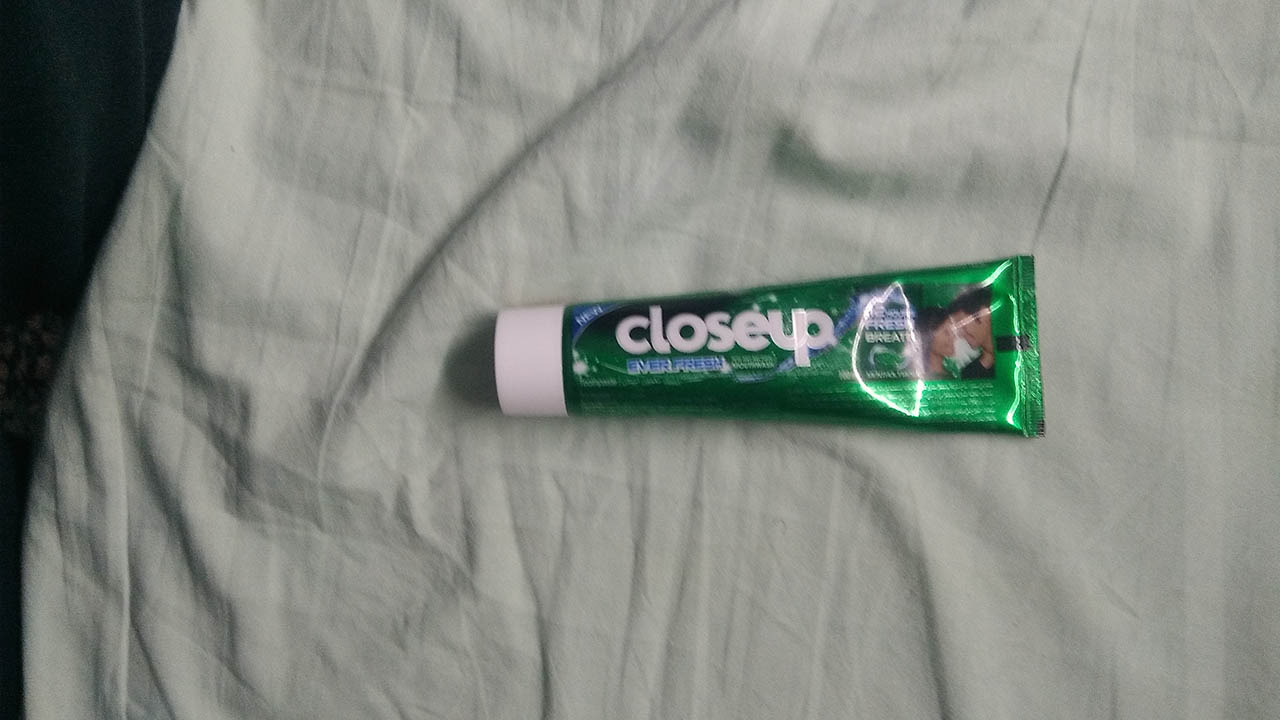Toothpaste-Closeup 3.04$: (485, 253, 1068, 443)
